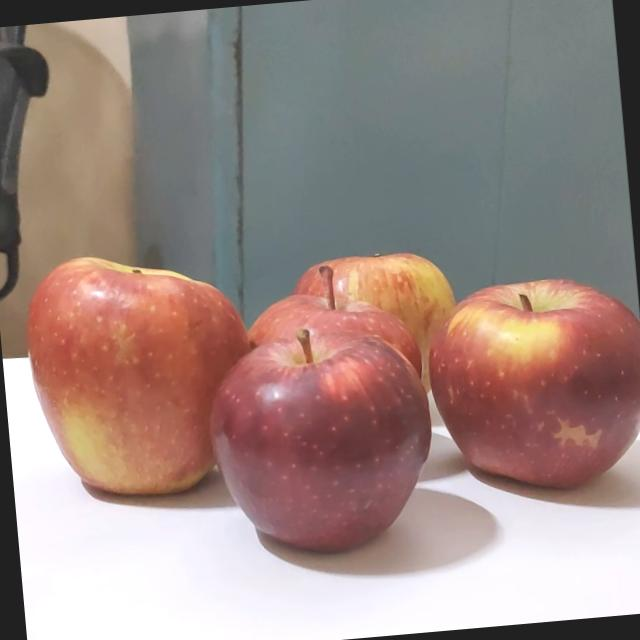apple: (22, 251, 250, 504), (404, 275, 640, 506), (200, 322, 428, 560), (235, 262, 420, 484), (294, 240, 462, 430)
